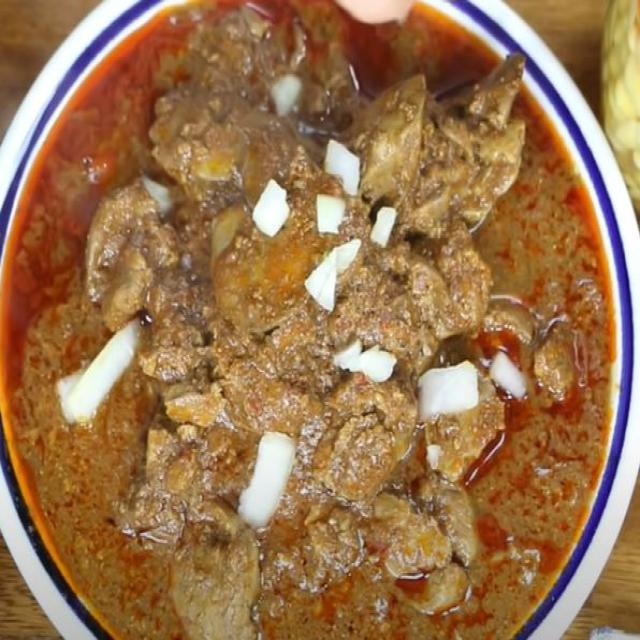kamouniya: (14, 2, 636, 640)
